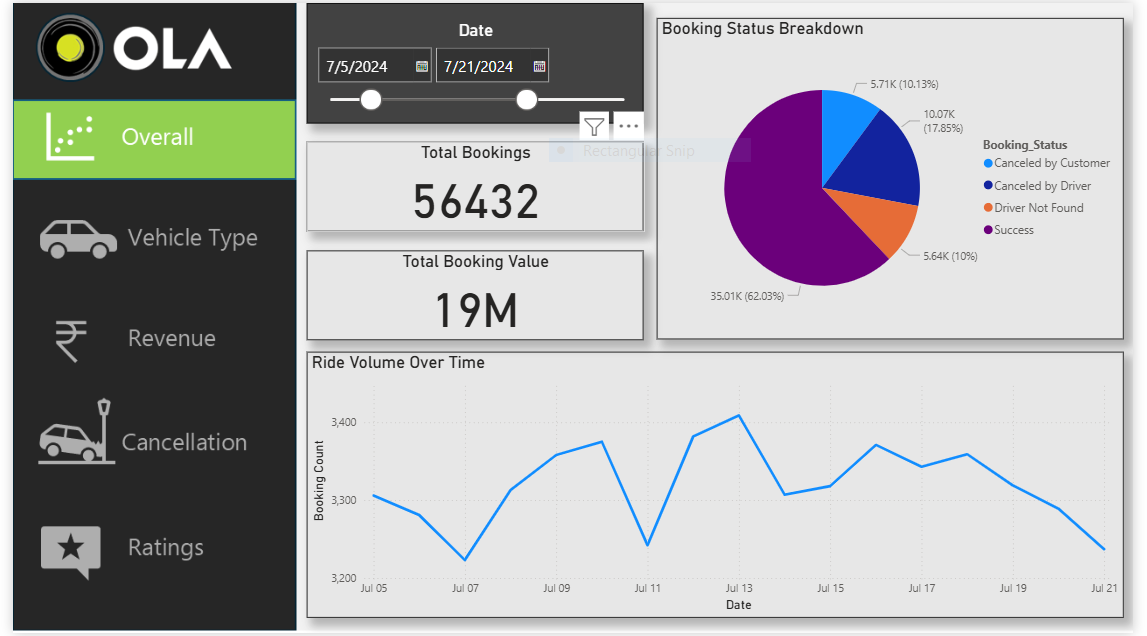

This screenshot's page, from the dashboard's own definition file:
{"tool":"powerbi","page":{"name":"Overall","canvas":[1280,720],"ordinal":0},"visuals":[{"type":"actionButton","box":[0,224.3,325.7,92.9],"z":0},{"type":"actionButton","box":[0,338.6,325.7,92.9],"z":1000},{"type":"actionButton","box":[0,445.7,325.7,92.9],"z":2000},{"type":"actionButton","box":[0,577.1,325.7,92.9],"z":3000},{"type":"lineChart","title":"Ride Volume Over Time","fields":{"Category":["July (2).Date"],"Y":["CountNonNull(July (2).Booking_ID)"]},"box":[336.2,398.8,933.8,303.8],"z":4000},{"type":"pieChart","title":"Booking Status Breakdown","fields":{"Category":["July (2).Booking_Status","July (2).Date"],"Y":["CountNonNull(July (2).Booking_Status)"]},"box":[736.2,17.5,533.8,367.5],"z":5000},{"type":"slicer","title":"Date","fields":{"Values":["July (2).Date"]},"box":[336.2,0,385,137.5],"z":6000},{"type":"card","title":"Total Bookings","fields":{"Values":["CountNonNull(July (2).Booking_ID)"]},"box":[336.2,158.8,385,102.5],"z":7000},{"type":"card","title":"Total Booking Value","fields":{"Values":["Sum(July (2).Booking_Value)"]},"box":[336.2,282.5,385,102.5],"z":8000}]}

Visuals, with their boxes in screenshot pixels (x1, y1, x2, y2), scaled from the page's 1280x720 canvas onto the 1147x636 screenshot:
actionButton: pyautogui.locateOnScreen(0, 198, 292, 280)
actionButton: pyautogui.locateOnScreen(0, 299, 292, 381)
actionButton: pyautogui.locateOnScreen(0, 394, 292, 476)
actionButton: pyautogui.locateOnScreen(0, 510, 292, 592)
"Ride Volume Over Time" lineChart: pyautogui.locateOnScreen(301, 352, 1138, 621)
"Booking Status Breakdown" pieChart: pyautogui.locateOnScreen(660, 15, 1138, 340)
"Date" slicer: pyautogui.locateOnScreen(301, 0, 646, 121)
"Total Bookings" card: pyautogui.locateOnScreen(301, 140, 646, 231)
"Total Booking Value" card: pyautogui.locateOnScreen(301, 250, 646, 340)
